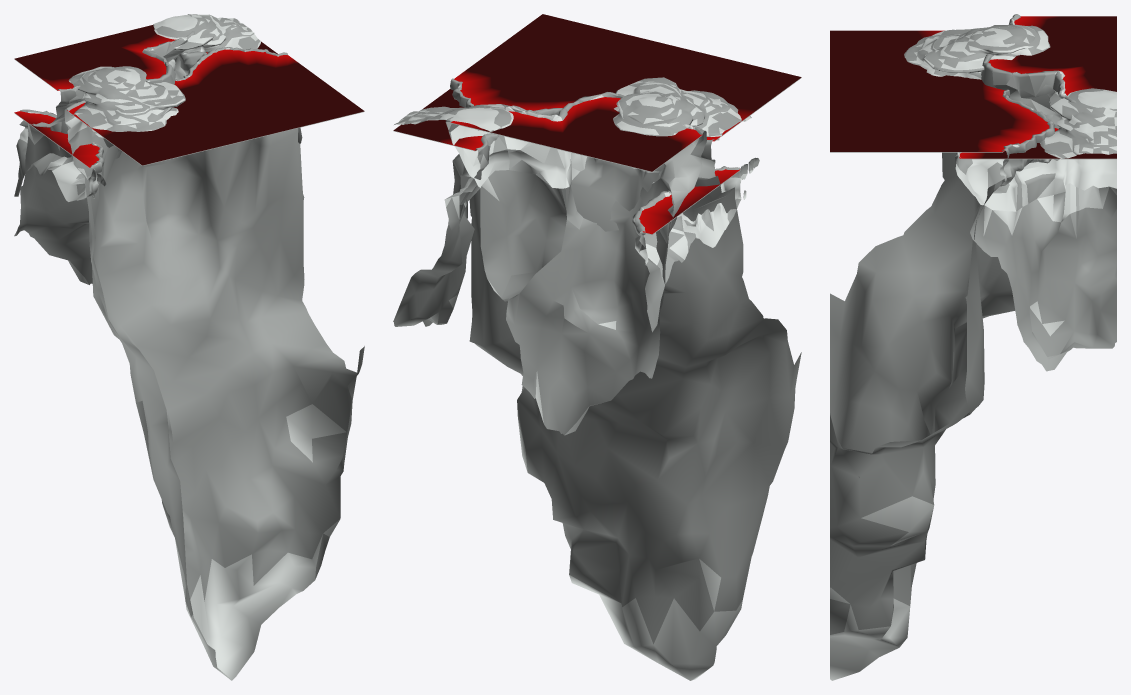
3 views of the same model, side by side, from view 1: azimuth 30°, elevation 25°; view 2: azimuth 150°, elevation 25°; view 3: azimuth 270°, elevation 25° (orthographic). The views are drawn at different scales.
Visible parts, largest first — view 1: G:\FFXIV-MapTools\exports\a2f1\bg\ex1\03_abr_a2\fld\a2f1\bgp (×8); view 2: G:\FFXIV-MapTools\exports\a2f1\bg\ex1\03_abr_a2\fld\a2f1\bgp (×10); view 3: G:\FFXIV-MapTools\exports\a2f1\bg\ex1\03_abr_a2\fld\a2f1\bgp (×10).
Boxes of the visible parts, left/top/right/bottom form: G:\FFXIV-MapTools\exports\a2f1\bg\ex1\03_abr_a2\fld\a2f1\bgp (×8): left=14, top=14, right=364, bottom=680; G:\FFXIV-MapTools\exports\a2f1\bg\ex1\03_abr_a2\fld\a2f1\bgp (×10): left=393, top=14, right=801, bottom=680; G:\FFXIV-MapTools\exports\a2f1\bg\ex1\03_abr_a2\fld\a2f1\bgp (×10): left=830, top=14, right=1116, bottom=680.
Bounding box in the file's own units: 128 × 308 × 128.
